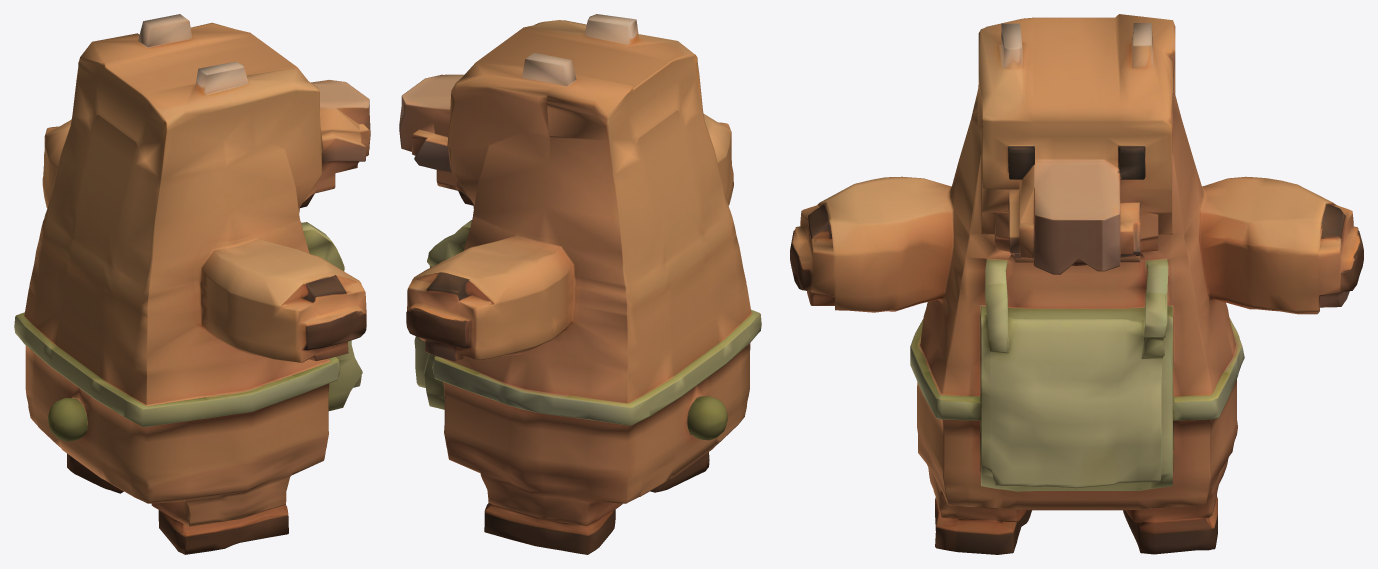
Rendered from 486ec7d8-f277-40ae-88d8-a06536b1242c-pbr_model.glb.
3 views of the same model, side by side, from view 1: azimuth 30°, elevation 25°; view 2: azimuth 150°, elevation 25°; view 3: azimuth 270°, elevation 25° (orthographic). The views are drawn at different scales.
Visible parts, largest first — view 1: tripo_node_486ec7d8-f277-40ae-88d8-a06536b1242c; view 2: tripo_node_486ec7d8-f277-40ae-88d8-a06536b1242c; view 3: tripo_node_486ec7d8-f277-40ae-88d8-a06536b1242c.
Part boxes in pixels (bbox=[...]): tripo_node_486ec7d8-f277-40ae-88d8-a06536b1242c: bbox=[14, 14, 370, 554]; tripo_node_486ec7d8-f277-40ae-88d8-a06536b1242c: bbox=[399, 14, 761, 554]; tripo_node_486ec7d8-f277-40ae-88d8-a06536b1242c: bbox=[790, 14, 1363, 554].
Bounding box in the file's own units: 0.683 × 0.9609 × 1.
1 material, 1 textured.
